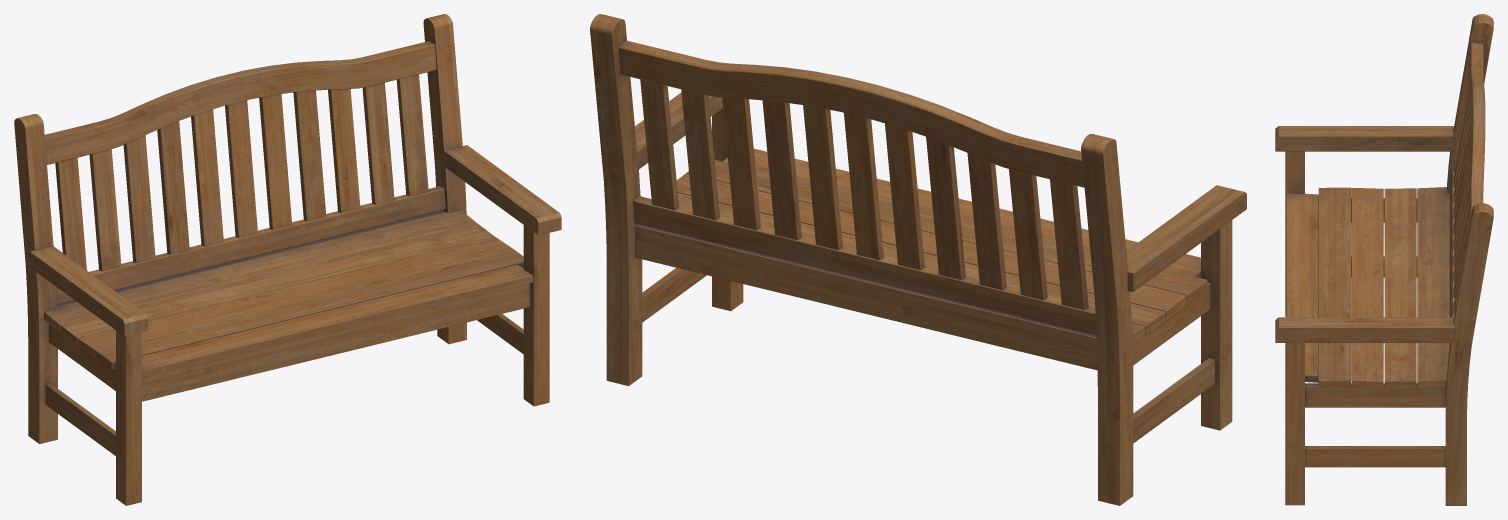
The model's file is bench_1.fbx.
3 views of the same model, side by side, from view 1: azimuth 30°, elevation 25°; view 2: azimuth 150°, elevation 25°; view 3: azimuth 270°, elevation 25° (orthographic). The views are drawn at different scales.
Parts seen in each view (by area): view 1: bench_1; view 2: bench_1; view 3: bench_1.
Part boxes in pixels (x1,y1,x2,y2): bench_1: (14,14,561,505); bench_1: (590,14,1246,505); bench_1: (1275,14,1493,505).
Bounding box in the file's own units: 170 × 115 × 77.36.
1 material, 1 textured.
